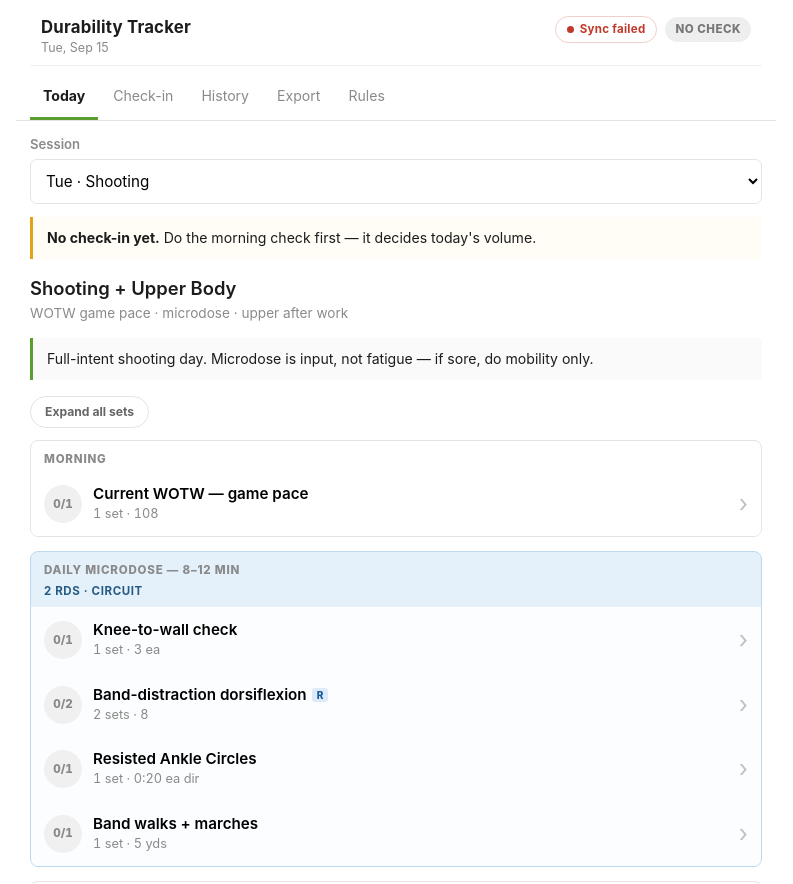
Test: session rendering › renders the Thursday microdose as a circuit
Select "Thu · Microdose" in the dropdown labelled "Session" at (396, 181), box x1=30 y1=159 x2=762 y2=204
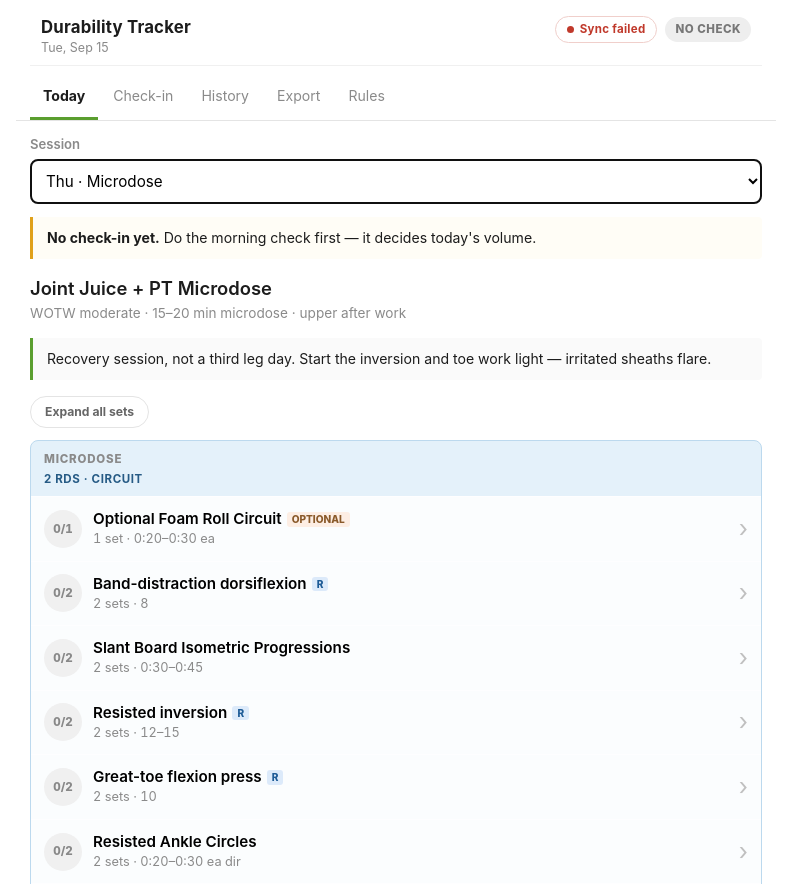
Click the button "Expand all sets".
click(90, 412)  # box x1=30 y1=396 x2=149 y2=428
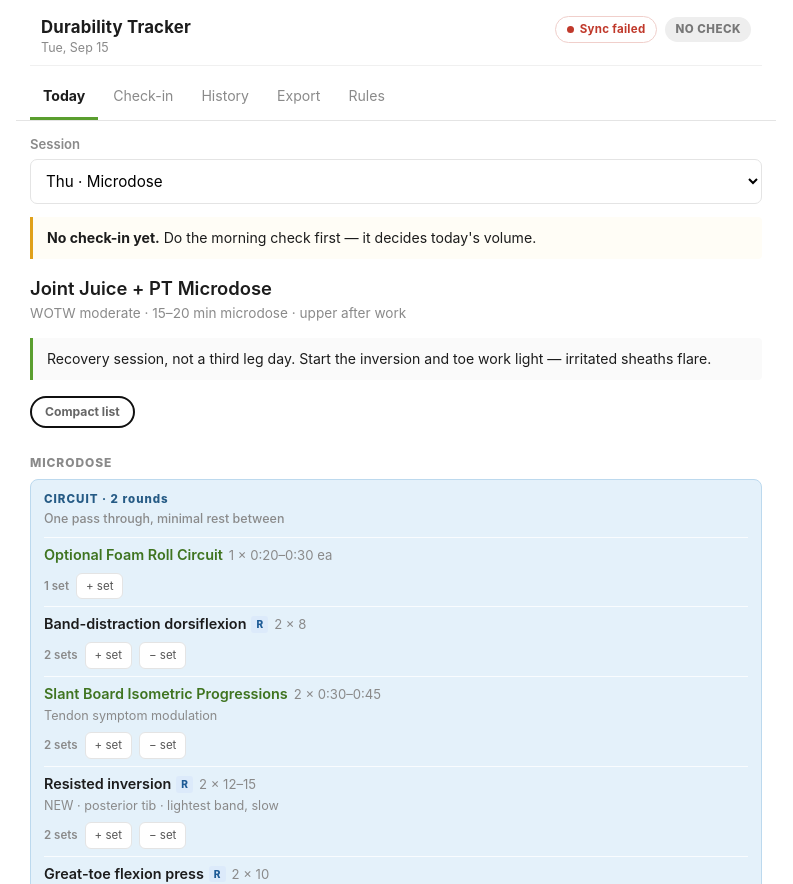
Result: the element with class "ghead" shows "CIRCUIT" at x1=44 y1=492 x2=98 y2=506
